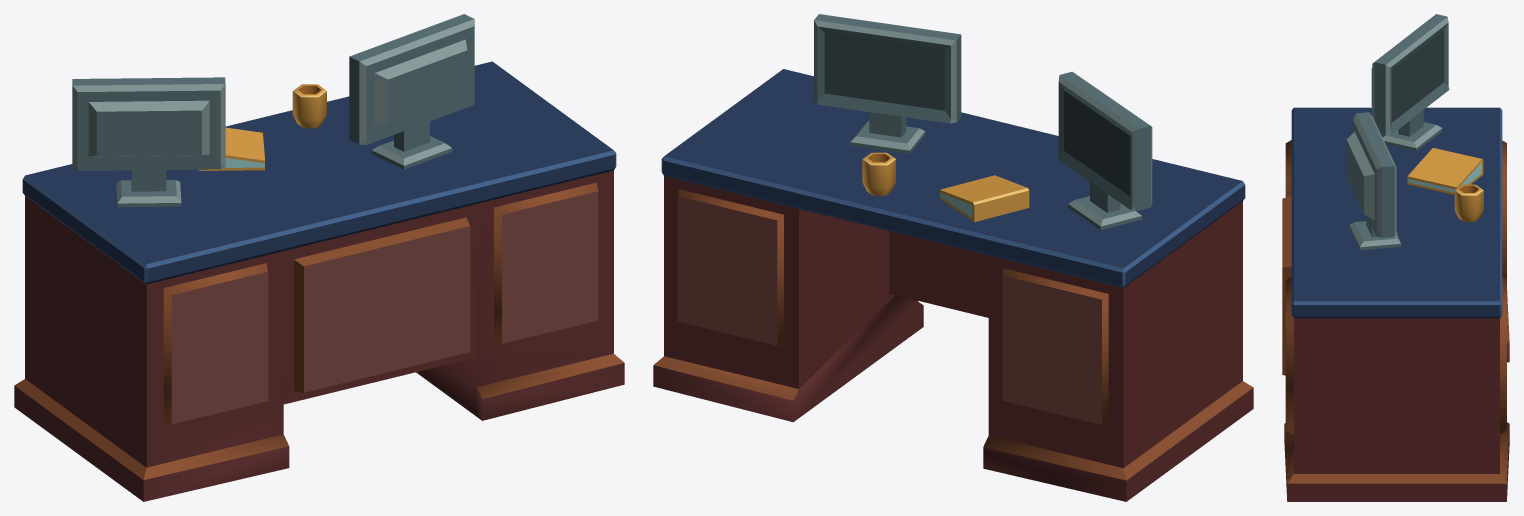
Rendered from TableOfice2.fbx.
3 views of the same model, side by side, from view 1: azimuth 30°, elevation 25°; view 2: azimuth 150°, elevation 25°; view 3: azimuth 270°, elevation 25° (orthographic). The views are drawn at different scales.
Visible parts, largest first — view 1: TableOfice2; view 2: TableOfice2; view 3: TableOfice2.
Boxes of the visible parts, <box> form: TableOfice2: <box>14,14,624,501</box>; TableOfice2: <box>653,14,1253,501</box>; TableOfice2: <box>1282,14,1509,501</box>.
Bounding box in the file's own units: 167 × 115 × 80.48.
